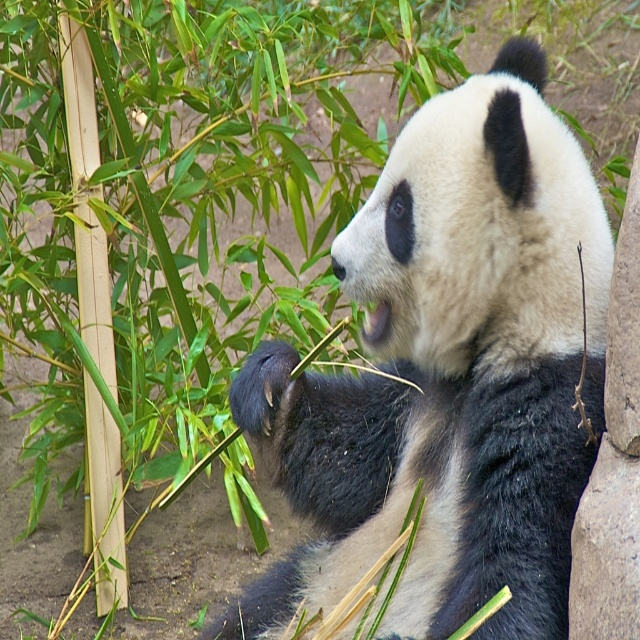Panda: (199, 28, 615, 639)
